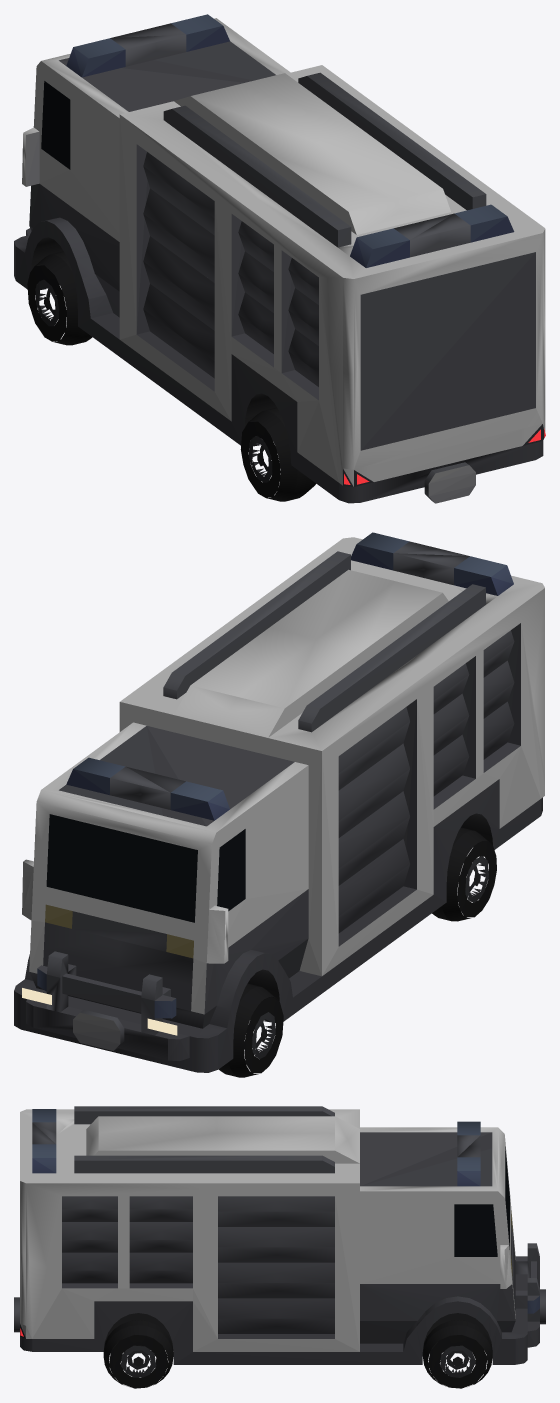
The model's file is ov_firetruck.glb.
3 renders of one model, top to bottom at view 1: azimuth 30°, elevation 25°; view 2: azimuth 150°, elevation 25°; view 3: azimuth 270°, elevation 25°, orthographic. The views are drawn at different scales.
Parts seen in each view (by area): view 1: Body, WheelRL, WheelFL; view 2: Body, WheelFL, WheelRL; view 3: Body, WheelFR, WheelRR.
Boxes of the visible parts, <box> form: Body: <box>14,14,545,503</box>; WheelRL: <box>240,407,316,501</box>; WheelFL: <box>27,251,92,345</box>; Body: <box>14,532,544,1072</box>; WheelFL: <box>219,983,283,1077</box>; WheelRL: <box>432,827,496,921</box>; Body: <box>14,1106,545,1364</box>; WheelFR: <box>422,1320,492,1388</box>; WheelRR: <box>103,1320,173,1388</box>.
Size of what is drawn, in the model's own units: 2.46 by 3.2 by 7.
